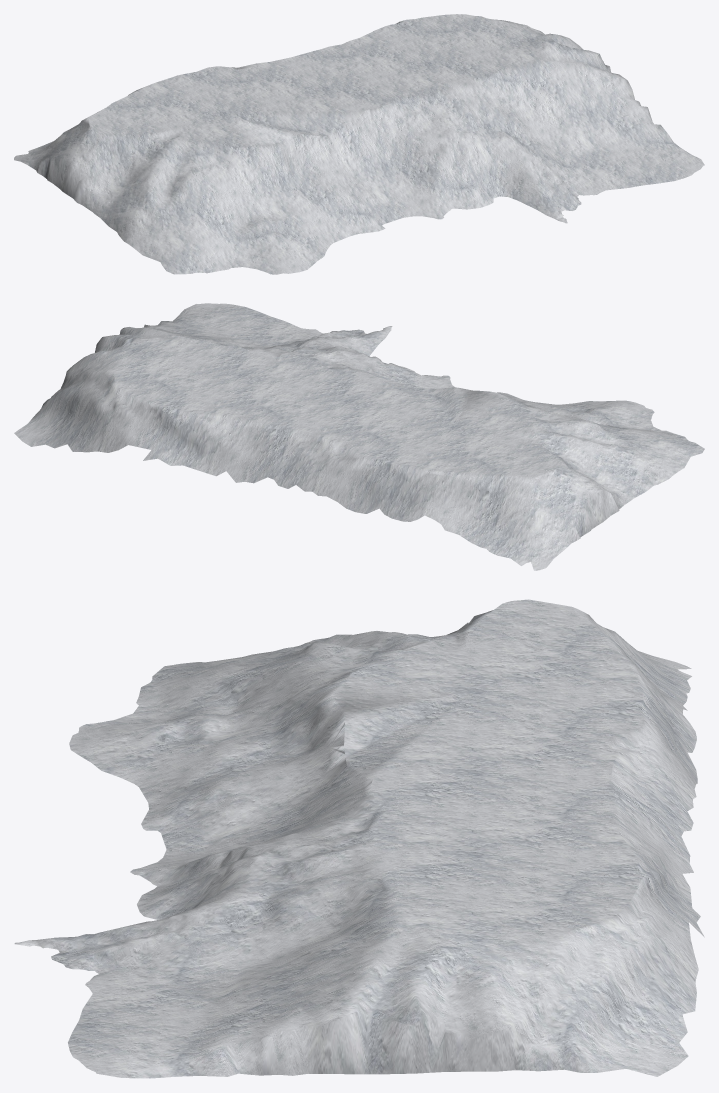
Rendered from Custom_Model_e8a398-transformed.glb.
3 renders of one model, top to bottom at view 1: azimuth 30°, elevation 25°; view 2: azimuth 150°, elevation 25°; view 3: azimuth 270°, elevation 25°, orthographic. The views are drawn at different scales.
Parts seen in each view (by area): view 1: Plane_Plane.001; view 2: Plane_Plane.001; view 3: Plane_Plane.001.
Part boxes in pixels (left/top/right/bottom): Plane_Plane.001: left=14, top=14, right=704, bottom=274; Plane_Plane.001: left=14, top=303, right=704, bottom=570; Plane_Plane.001: left=14, top=599, right=704, bottom=1078.
Bounding box in the file's own units: 18.09 × 2.71 × 12.62.
Materials: 1 (1 with a texture image).
